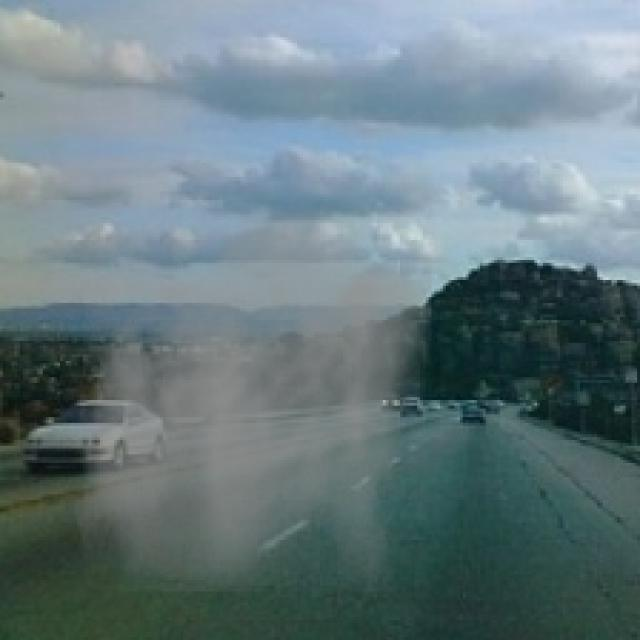smoke: (74, 188, 432, 592)
